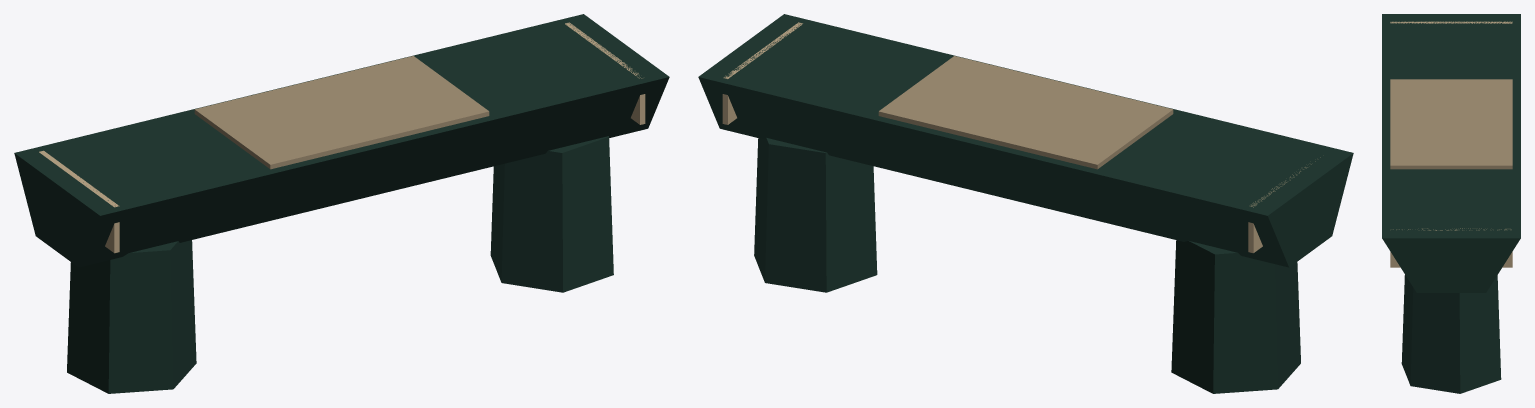
Rendered from log_bench.glb.
The picture shows the model from 3 angles, left to right: view 1: azimuth 30°, elevation 25°; view 2: azimuth 150°, elevation 25°; view 3: azimuth 270°, elevation 25°; orthographic projection. The views are drawn at different scales.
Visible parts, largest first — view 1: pine_d45, driftwood_d20, driftwood_d5; view 2: pine_d45, driftwood_d20, driftwood_d5; view 3: pine_d45, driftwood_d20, driftwood_d5.
Boxes of the visible parts, left/top/right/bottom form: pine_d45: left=14, top=14, right=669, bottom=393; driftwood_d20: left=194, top=56, right=489, bottom=169; driftwood_d5: left=39, top=22, right=645, bottom=253; pine_d45: left=698, top=14, right=1353, bottom=393; driftwood_d20: left=878, top=56, right=1173, bottom=169; driftwood_d5: left=722, top=22, right=1320, bottom=253; pine_d45: left=1382, top=14, right=1520, bottom=393; driftwood_d20: left=1390, top=79, right=1512, bottom=169; driftwood_d5: left=1390, top=21, right=1512, bottom=267.
Bounding box in the file's own units: 1.3 × 0.45 × 0.34.
